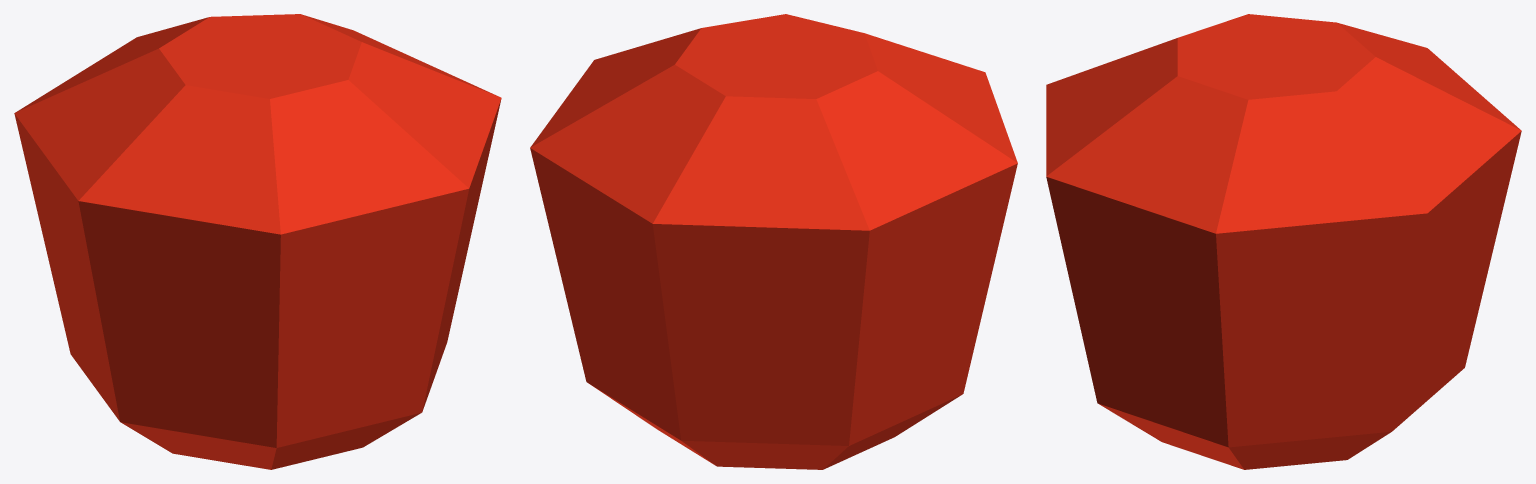
File: TestPomme.fbx
3 views of the same model, side by side, from view 1: azimuth 30°, elevation 25°; view 2: azimuth 150°, elevation 25°; view 3: azimuth 270°, elevation 25° (orthographic).
Parts seen in each view (by area): view 1: Cylinder; view 2: Cylinder; view 3: Cylinder.
Part boxes in pixels (x1=…): Cylinder: x1=14, y1=14, x2=501, y2=469; Cylinder: x1=530, y1=14, x2=1017, y2=469; Cylinder: x1=1046, y1=14, x2=1521, y2=469.
Size of the model in its own units: 81.85 by 67.18 by 79.8.
